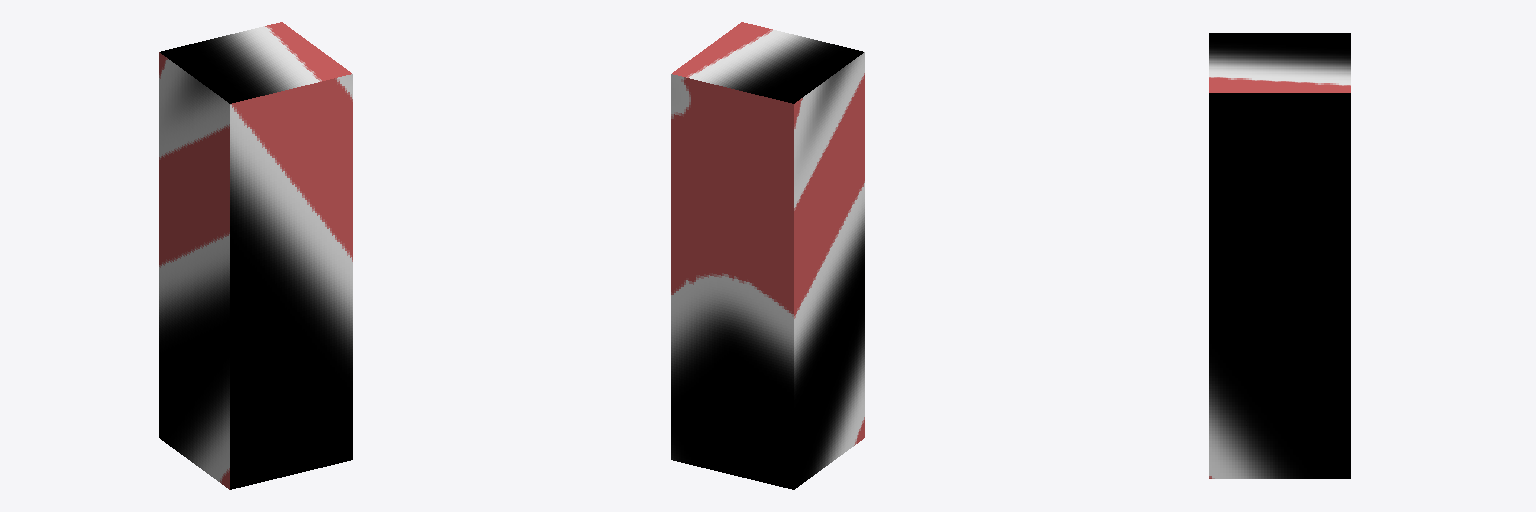
The picture shows the model from 3 angles: view 1: azimuth 30°, elevation 25°; view 2: azimuth 150°, elevation 25°; view 3: azimuth 270°, elevation 25°; orthographic projection.
Visible parts, largest first — view 1: 左上腕; view 2: 左上腕; view 3: 左上腕.
Part boxes in pixels (bbox=[...]): 左上腕: bbox=[159, 22, 352, 489]; 左上腕: bbox=[671, 22, 864, 489]; 左上腕: bbox=[1209, 33, 1350, 478].
Size of the model in its own units: 3 by 9 by 3.
1 materials, 1 textured.